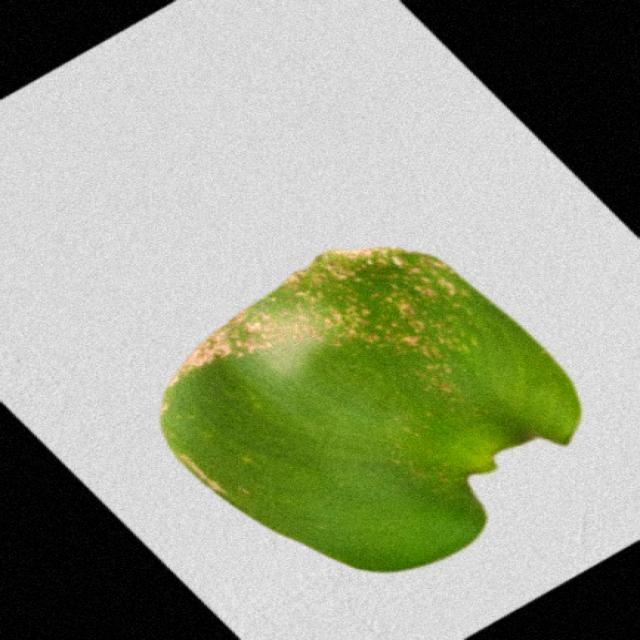daun berpenyakit bercak: (162, 249, 580, 571)
